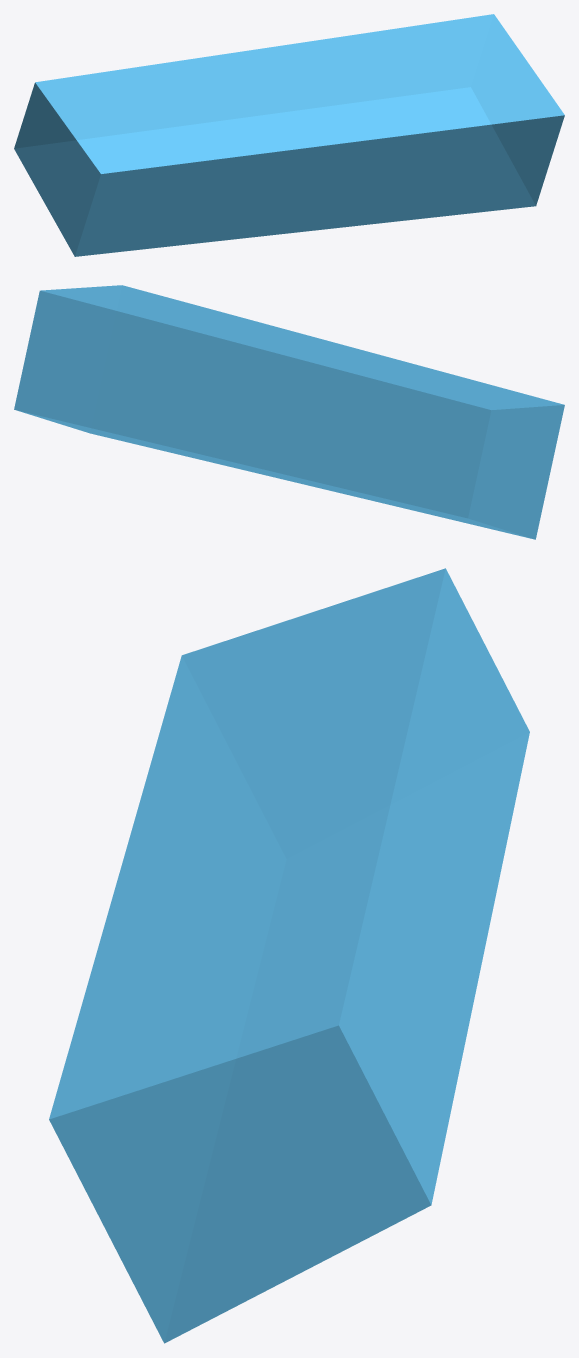
The model's file is Event_421115418_HErechit_96.fbx.
3 views of the same model, one above another, from view 1: azimuth 30°, elevation 25°; view 2: azimuth 150°, elevation 25°; view 3: azimuth 270°, elevation 25° (orthographic). The views are drawn at different scales.
Visible parts, largest first — view 1: Model; view 2: Model; view 3: Model.
Boxes of the visible parts, box(x1,y1,x2,y2) form: Model: box(14, 14, 564, 256); Model: box(14, 285, 564, 539); Model: box(49, 568, 529, 1343).
Size of the model in its own units: 1.06 by 0.4155 by 0.5102.
